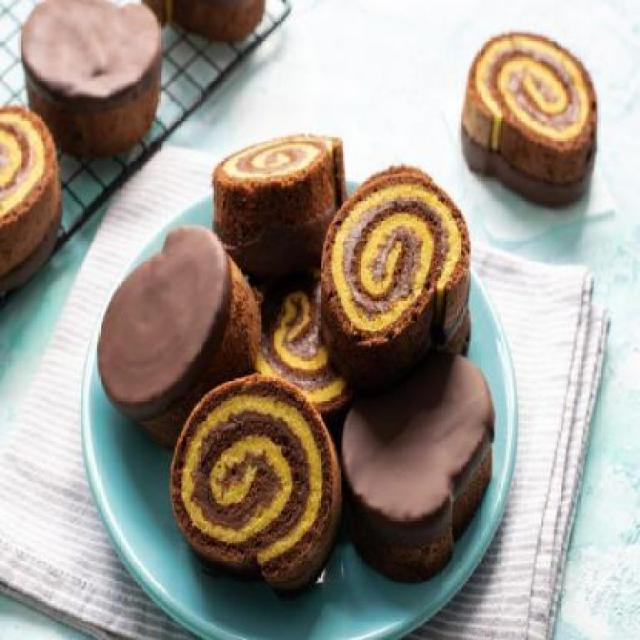Merendine packaged: (342, 352, 504, 582), (92, 222, 266, 436), (172, 377, 344, 592), (320, 162, 478, 382), (462, 28, 596, 212), (209, 130, 351, 276)
